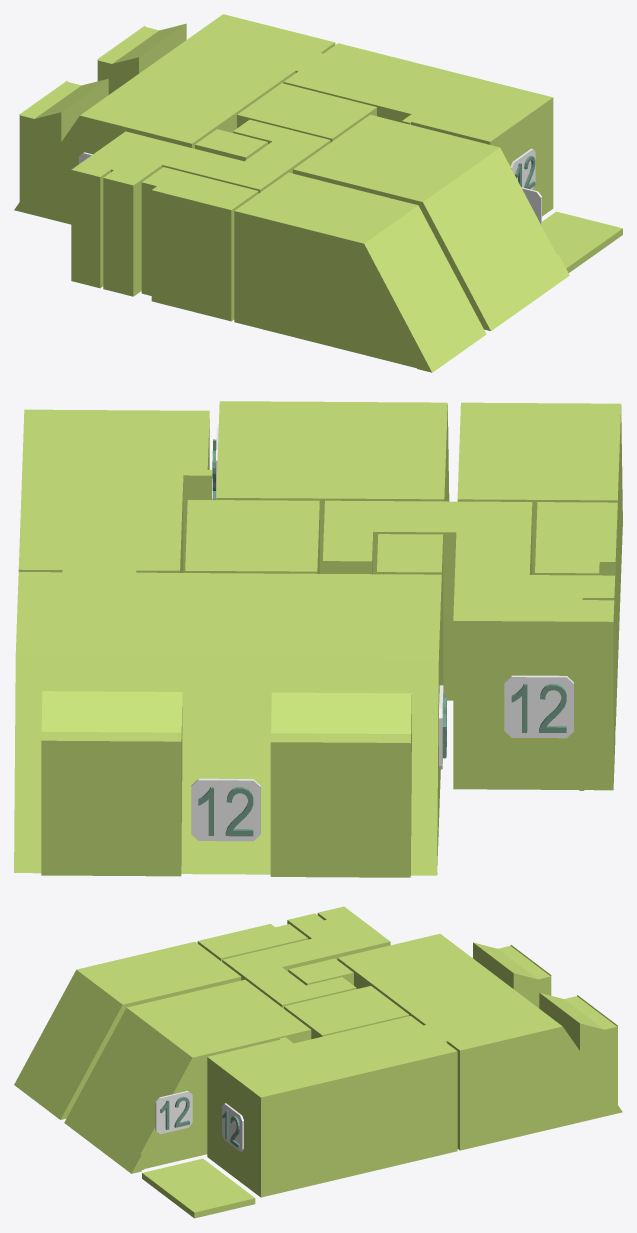
3 renders of one model, top to bottom at view 1: azimuth 30°, elevation 25°; view 2: azimuth 150°, elevation 25°; view 3: azimuth 270°, elevation 25°, orthographic. The views are drawn at different scales.
Parts seen in each view (by area): view 1: g_2, g_6, g_1, g_4, g_5, g_0, g_3, g_8, g_7; view 2: g_6, g_4, g_5, g_1, g_2, g_3, g_0, g_14, g_17, g_7, g_13, g_16; view 3: g_5, g_6, g_1, g_2, g_4, g_8, g_3, g_0, g_7, g_23, g_20.
Part boxes in pixels (x1=…): g_2: x1=234, y1=172, x2=486, y2=372; g_6: x1=14, y1=14, x2=335, y2=224; g_1: x1=293, y1=114, x2=569, y2=330; g_4: x1=71, y1=119, x2=330, y2=296; g_5: x1=283, y1=43, x2=553, y2=216; g_0: x1=141, y1=167, x2=258, y2=321; g_3: x1=237, y1=83, x2=376, y2=142; g_8: x1=542, y1=211, x2=622, y2=272; g_7: x1=195, y1=129, x2=267, y2=161; g_6: x1=14, y1=571, x2=441, y2=877; g_4: x1=323, y1=500, x2=615, y2=790; g_5: x1=18, y1=409, x2=211, y2=572; g_1: x1=216, y1=401, x2=449, y2=573; g_2: x1=457, y1=402, x2=622, y2=668; g_3: x1=185, y1=500, x2=319, y2=573; g_0: x1=535, y1=502, x2=617, y2=729; g_14: x1=191, y1=778, x2=260, y2=841; g_17: x1=504, y1=675, x2=573, y2=738; g_7: x1=377, y1=534, x2=443, y2=685; g_13: x1=225, y1=787, x2=253, y2=836; g_16: x1=539, y1=684, x2=566, y2=732; g_5: x1=207, y1=1016, x2=457, y2=1197; g_6: x1=337, y1=933, x2=622, y2=1150; g_1: x1=64, y1=979, x2=311, y2=1173; g_2: x1=14, y1=941, x2=241, y2=1119; g_4: x1=222, y1=906, x2=390, y2=1008; g_8: x1=142, y1=1158, x2=255, y2=1218; g_3: x1=284, y1=986, x2=409, y2=1039; g_0: x1=197, y1=924, x2=307, y2=961; g_7: x1=288, y1=958, x2=353, y2=985; g_23: x1=155, y1=1090, x2=192, y2=1134; g_20: x1=222, y1=1103, x2=243, y2=1151.
Size of the model in its own units: 11.21 by 2.71 by 14.04.
